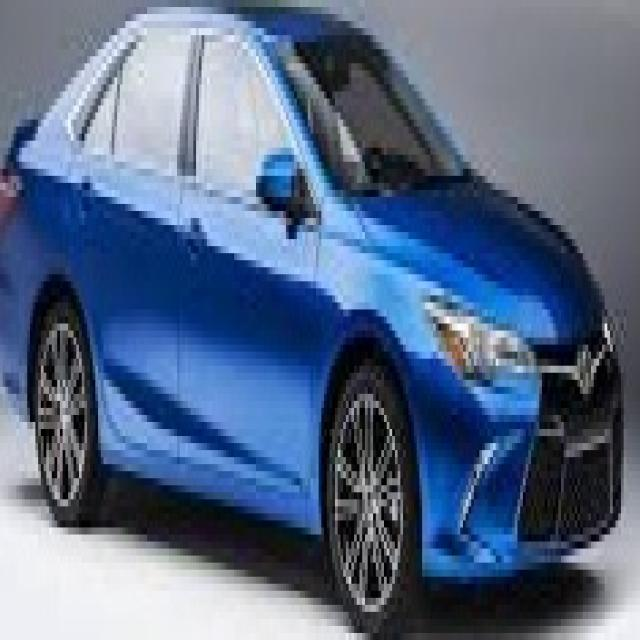blue: (0, 9, 625, 598)
